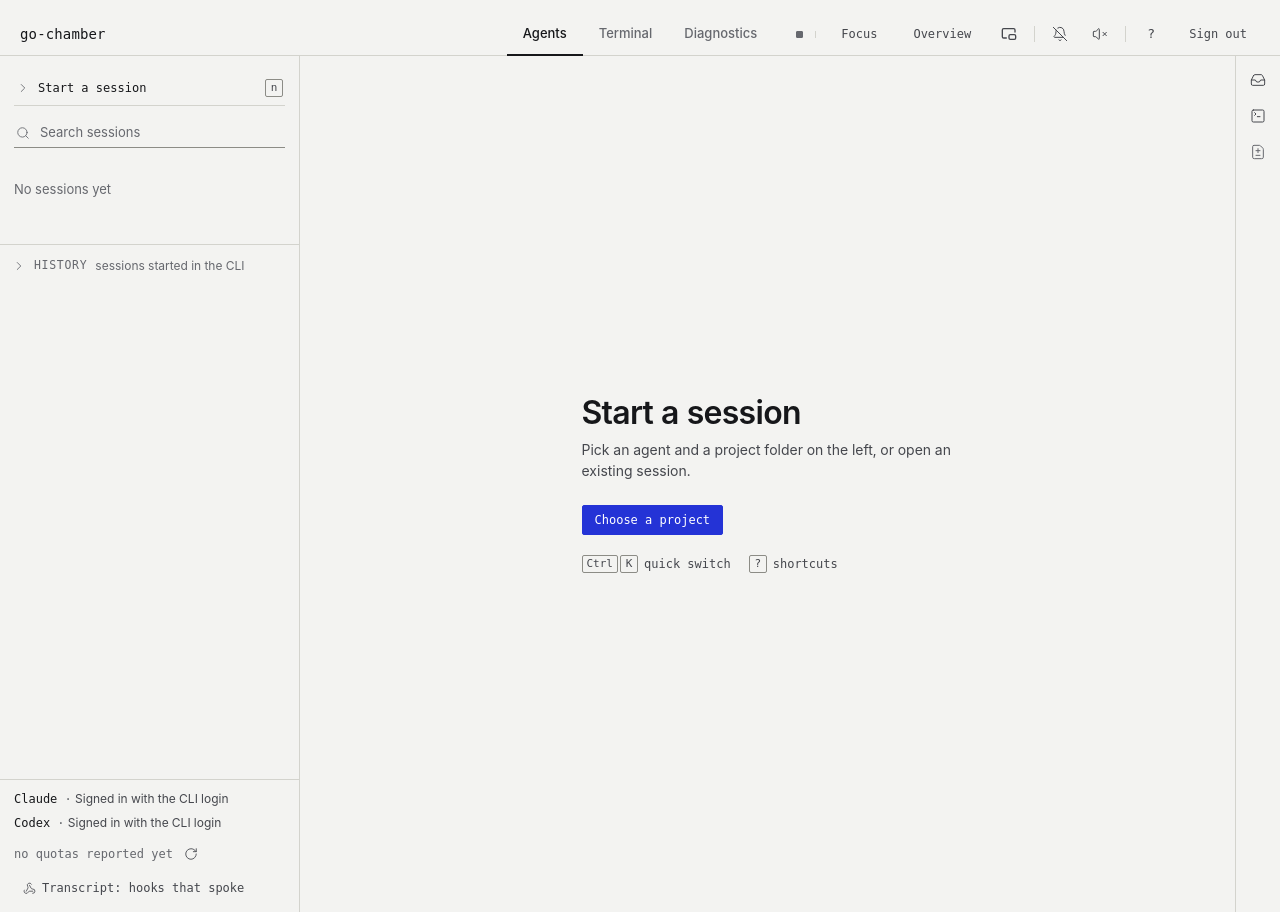
Scenario: App › signs out with a form post, after asking
Step 1. Click the button "Sign out" → {"x": 1218, "y": 34}, box [1176, 19, 1260, 49]
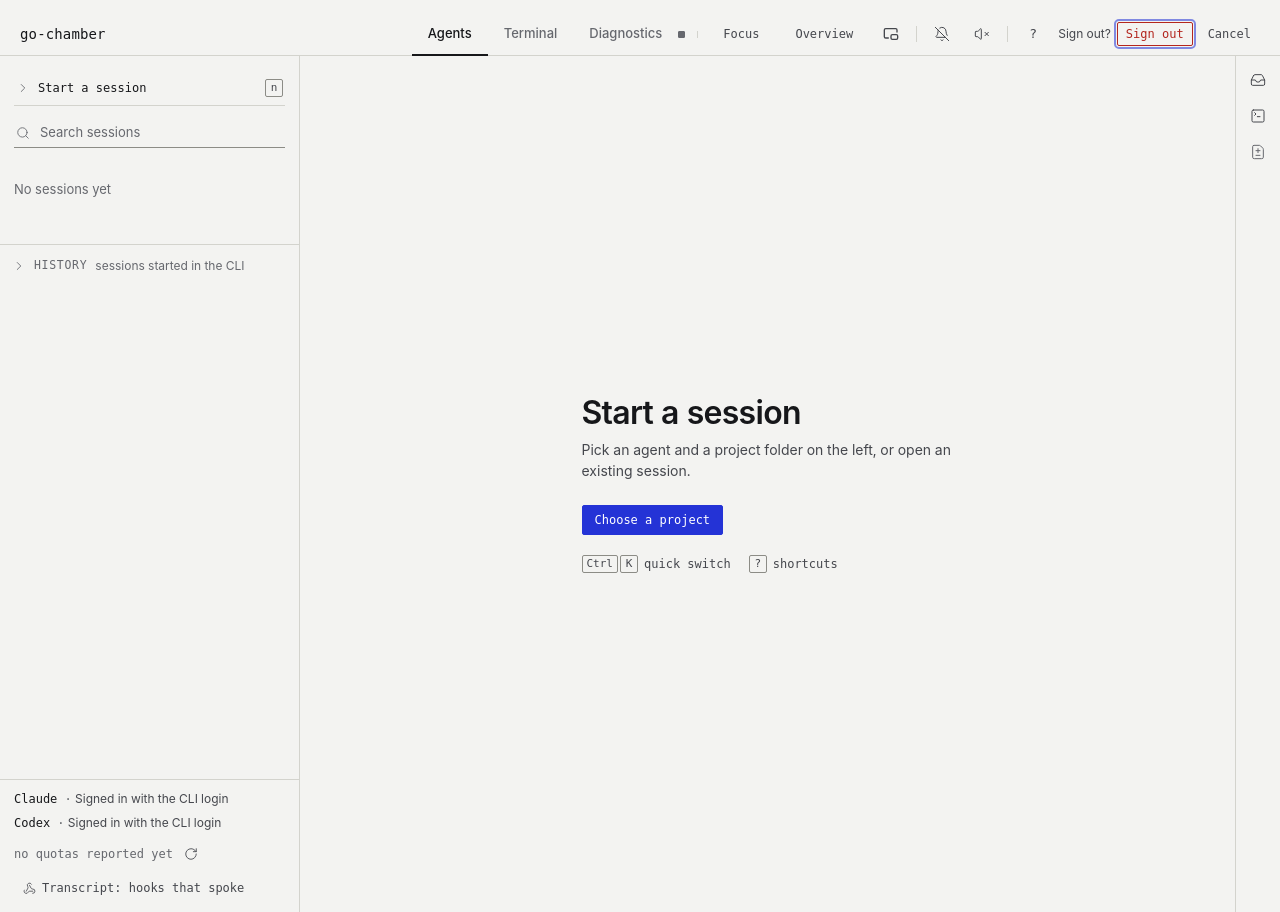
expect the text "Sign out?" is shown: met, box [1058, 25, 1111, 43]
